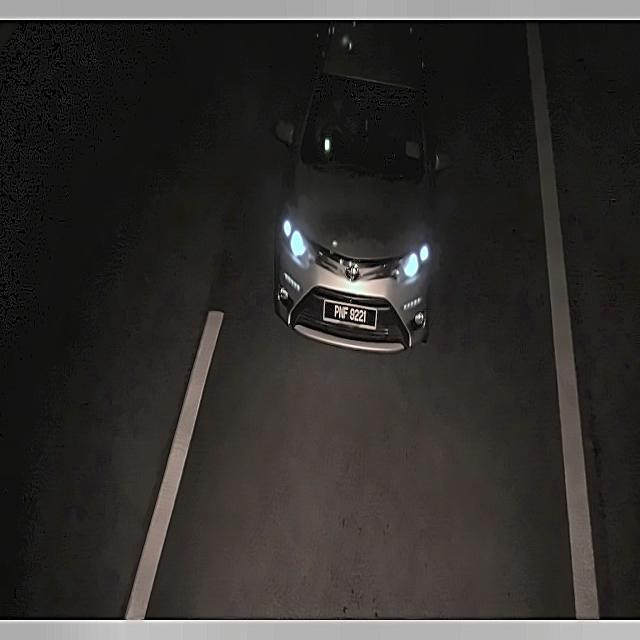car: (321, 296, 380, 334)
